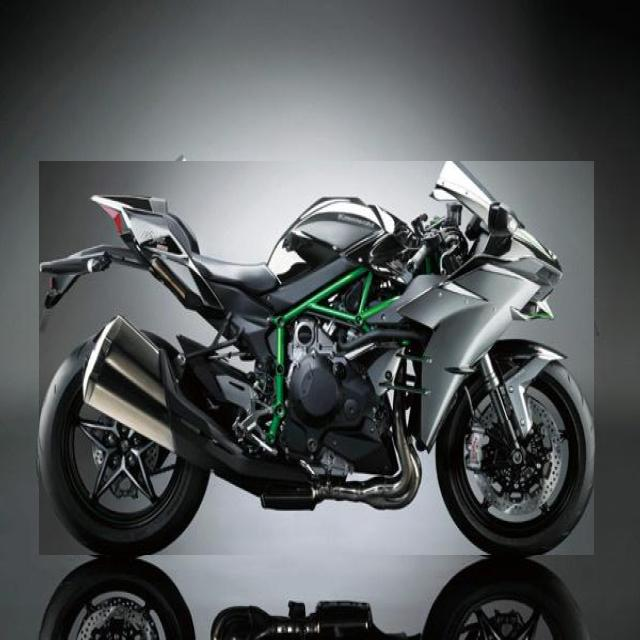motorcycle: (39, 161, 594, 555)
